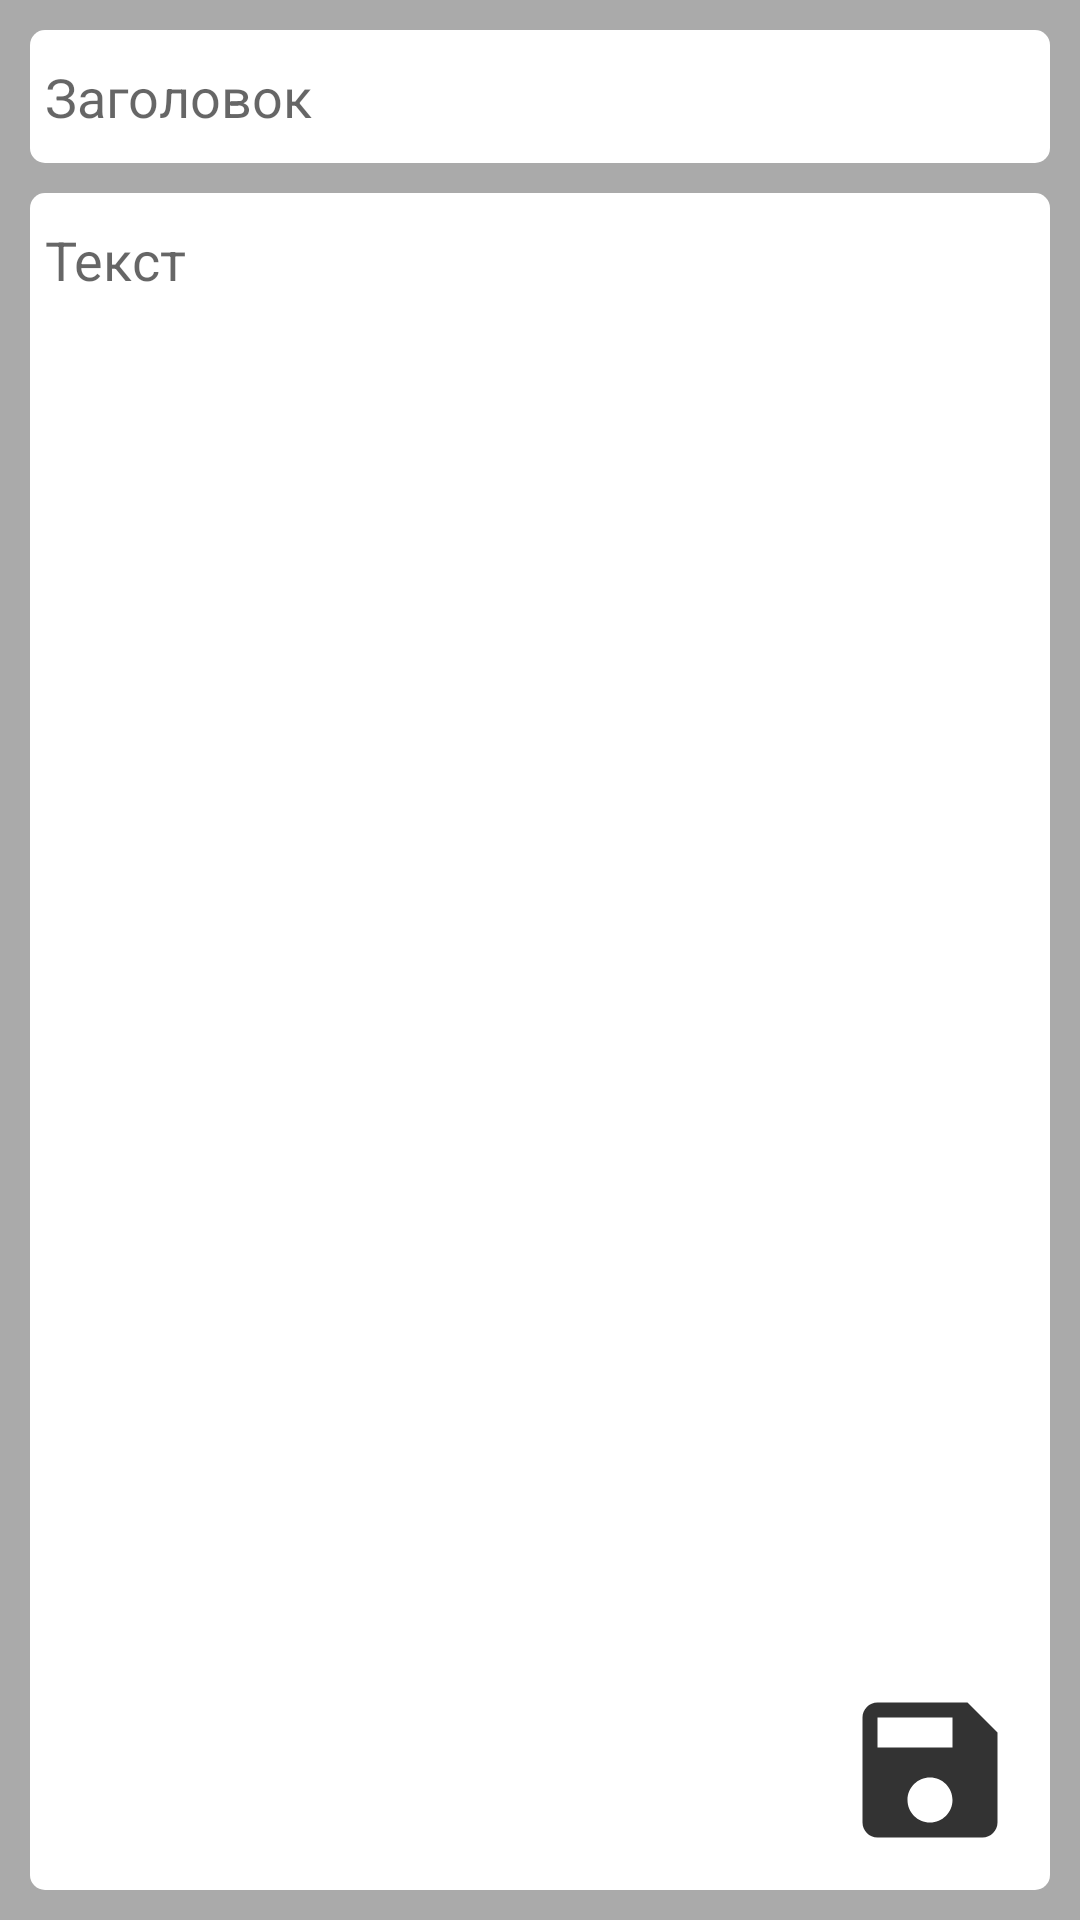

Icon bounding boxes for this 1080 x 1920 phone screenshot, format rect(x1, y1, x2, y2):
save: rect(862, 1702, 998, 1838)
